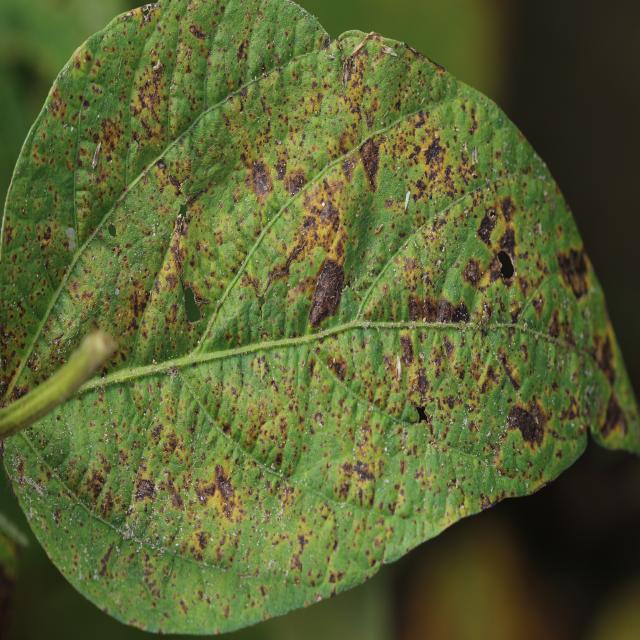Bacterial_Blight: (0, 328, 121, 447), (303, 249, 349, 332), (76, 142, 122, 222), (253, 396, 296, 464), (339, 32, 379, 91), (504, 397, 545, 448), (558, 245, 591, 299), (288, 523, 319, 578), (262, 259, 295, 300), (599, 392, 627, 440), (96, 114, 125, 158), (359, 137, 380, 191), (252, 157, 273, 203), (127, 284, 151, 322), (476, 207, 499, 246), (435, 297, 468, 324), (182, 282, 203, 323), (423, 132, 446, 169), (214, 463, 235, 503), (351, 458, 377, 488), (97, 540, 118, 577), (283, 166, 308, 197), (494, 250, 516, 284), (444, 483, 466, 517), (408, 397, 431, 424), (399, 334, 415, 367), (407, 293, 424, 322), (463, 260, 480, 286), (140, 1, 161, 18), (531, 292, 545, 315), (189, 23, 206, 40), (168, 173, 184, 190), (342, 58, 350, 90), (39, 223, 52, 242), (481, 301, 492, 322), (255, 294, 266, 314), (178, 202, 189, 219), (404, 190, 411, 212), (179, 599, 189, 614), (374, 224, 384, 236), (157, 159, 166, 171), (488, 209, 496, 219), (21, 206, 28, 217)
Soybean: (0, 0, 640, 632)
